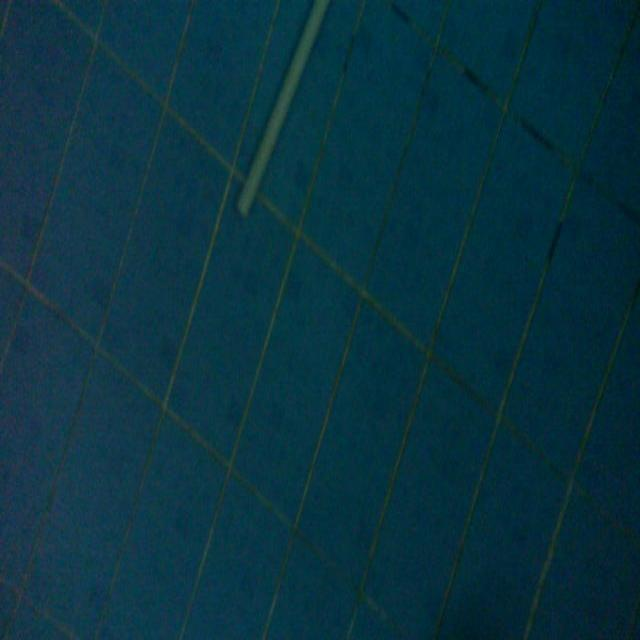Cube: (234, 0, 331, 219)
